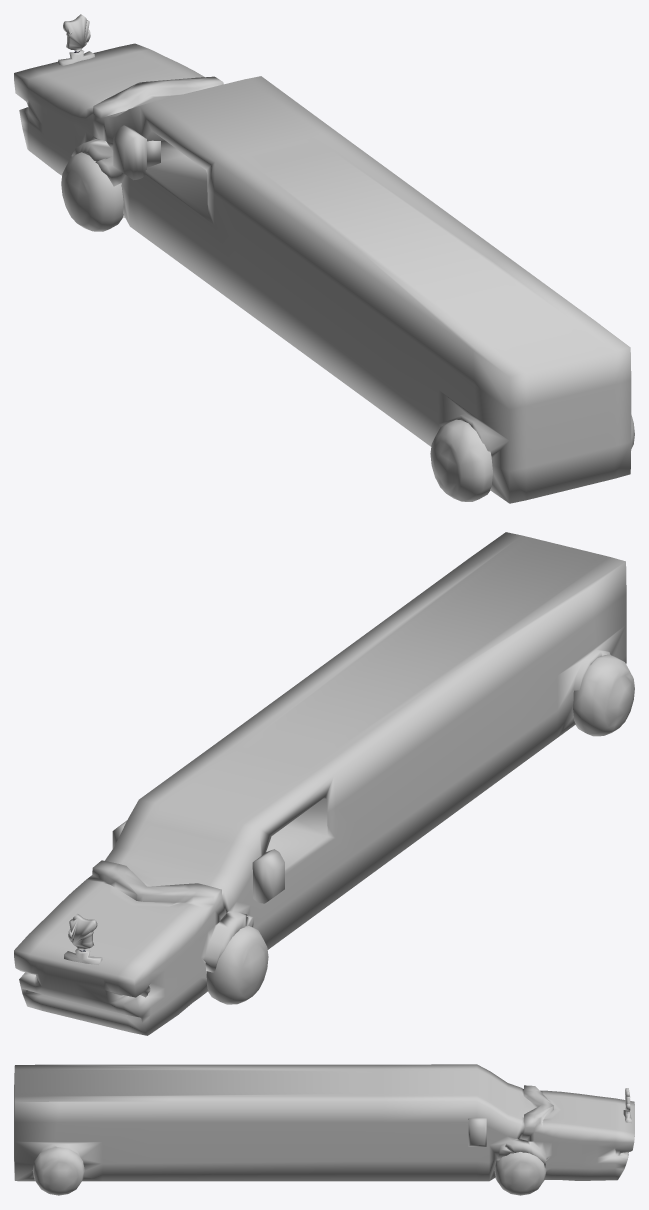
File: betterMain_Limo.fbx
The picture shows the model from 3 angles, top to bottom: view 1: azimuth 30°, elevation 25°; view 2: azimuth 150°, elevation 25°; view 3: azimuth 270°, elevation 25°; orthographic projection. The views are drawn at different scales.
Visible parts, largest first — view 1: Limo; view 2: Limo; view 3: Limo.
Part boxes in pixels (bbox=[...]): Limo: bbox=[14, 14, 634, 503]; Limo: bbox=[14, 532, 634, 1035]; Limo: bbox=[14, 1064, 634, 1195].
Size of the model in its own units: 504 by 376 by 2312.
